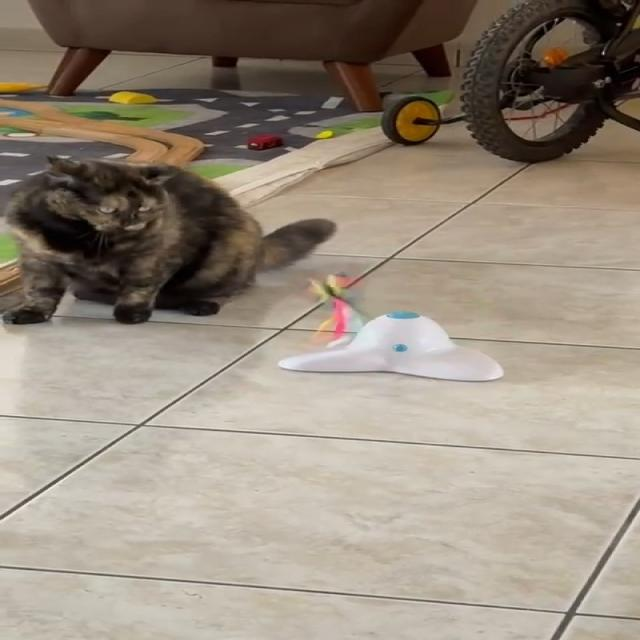authorized: (1, 153, 336, 325)
